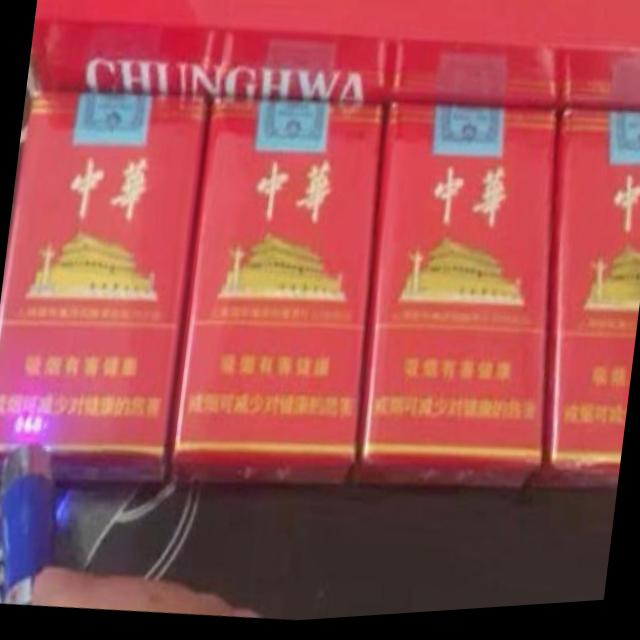box: (167, 99, 382, 488), (0, 90, 208, 487), (346, 108, 557, 494), (30, 0, 640, 123), (526, 115, 640, 497)
